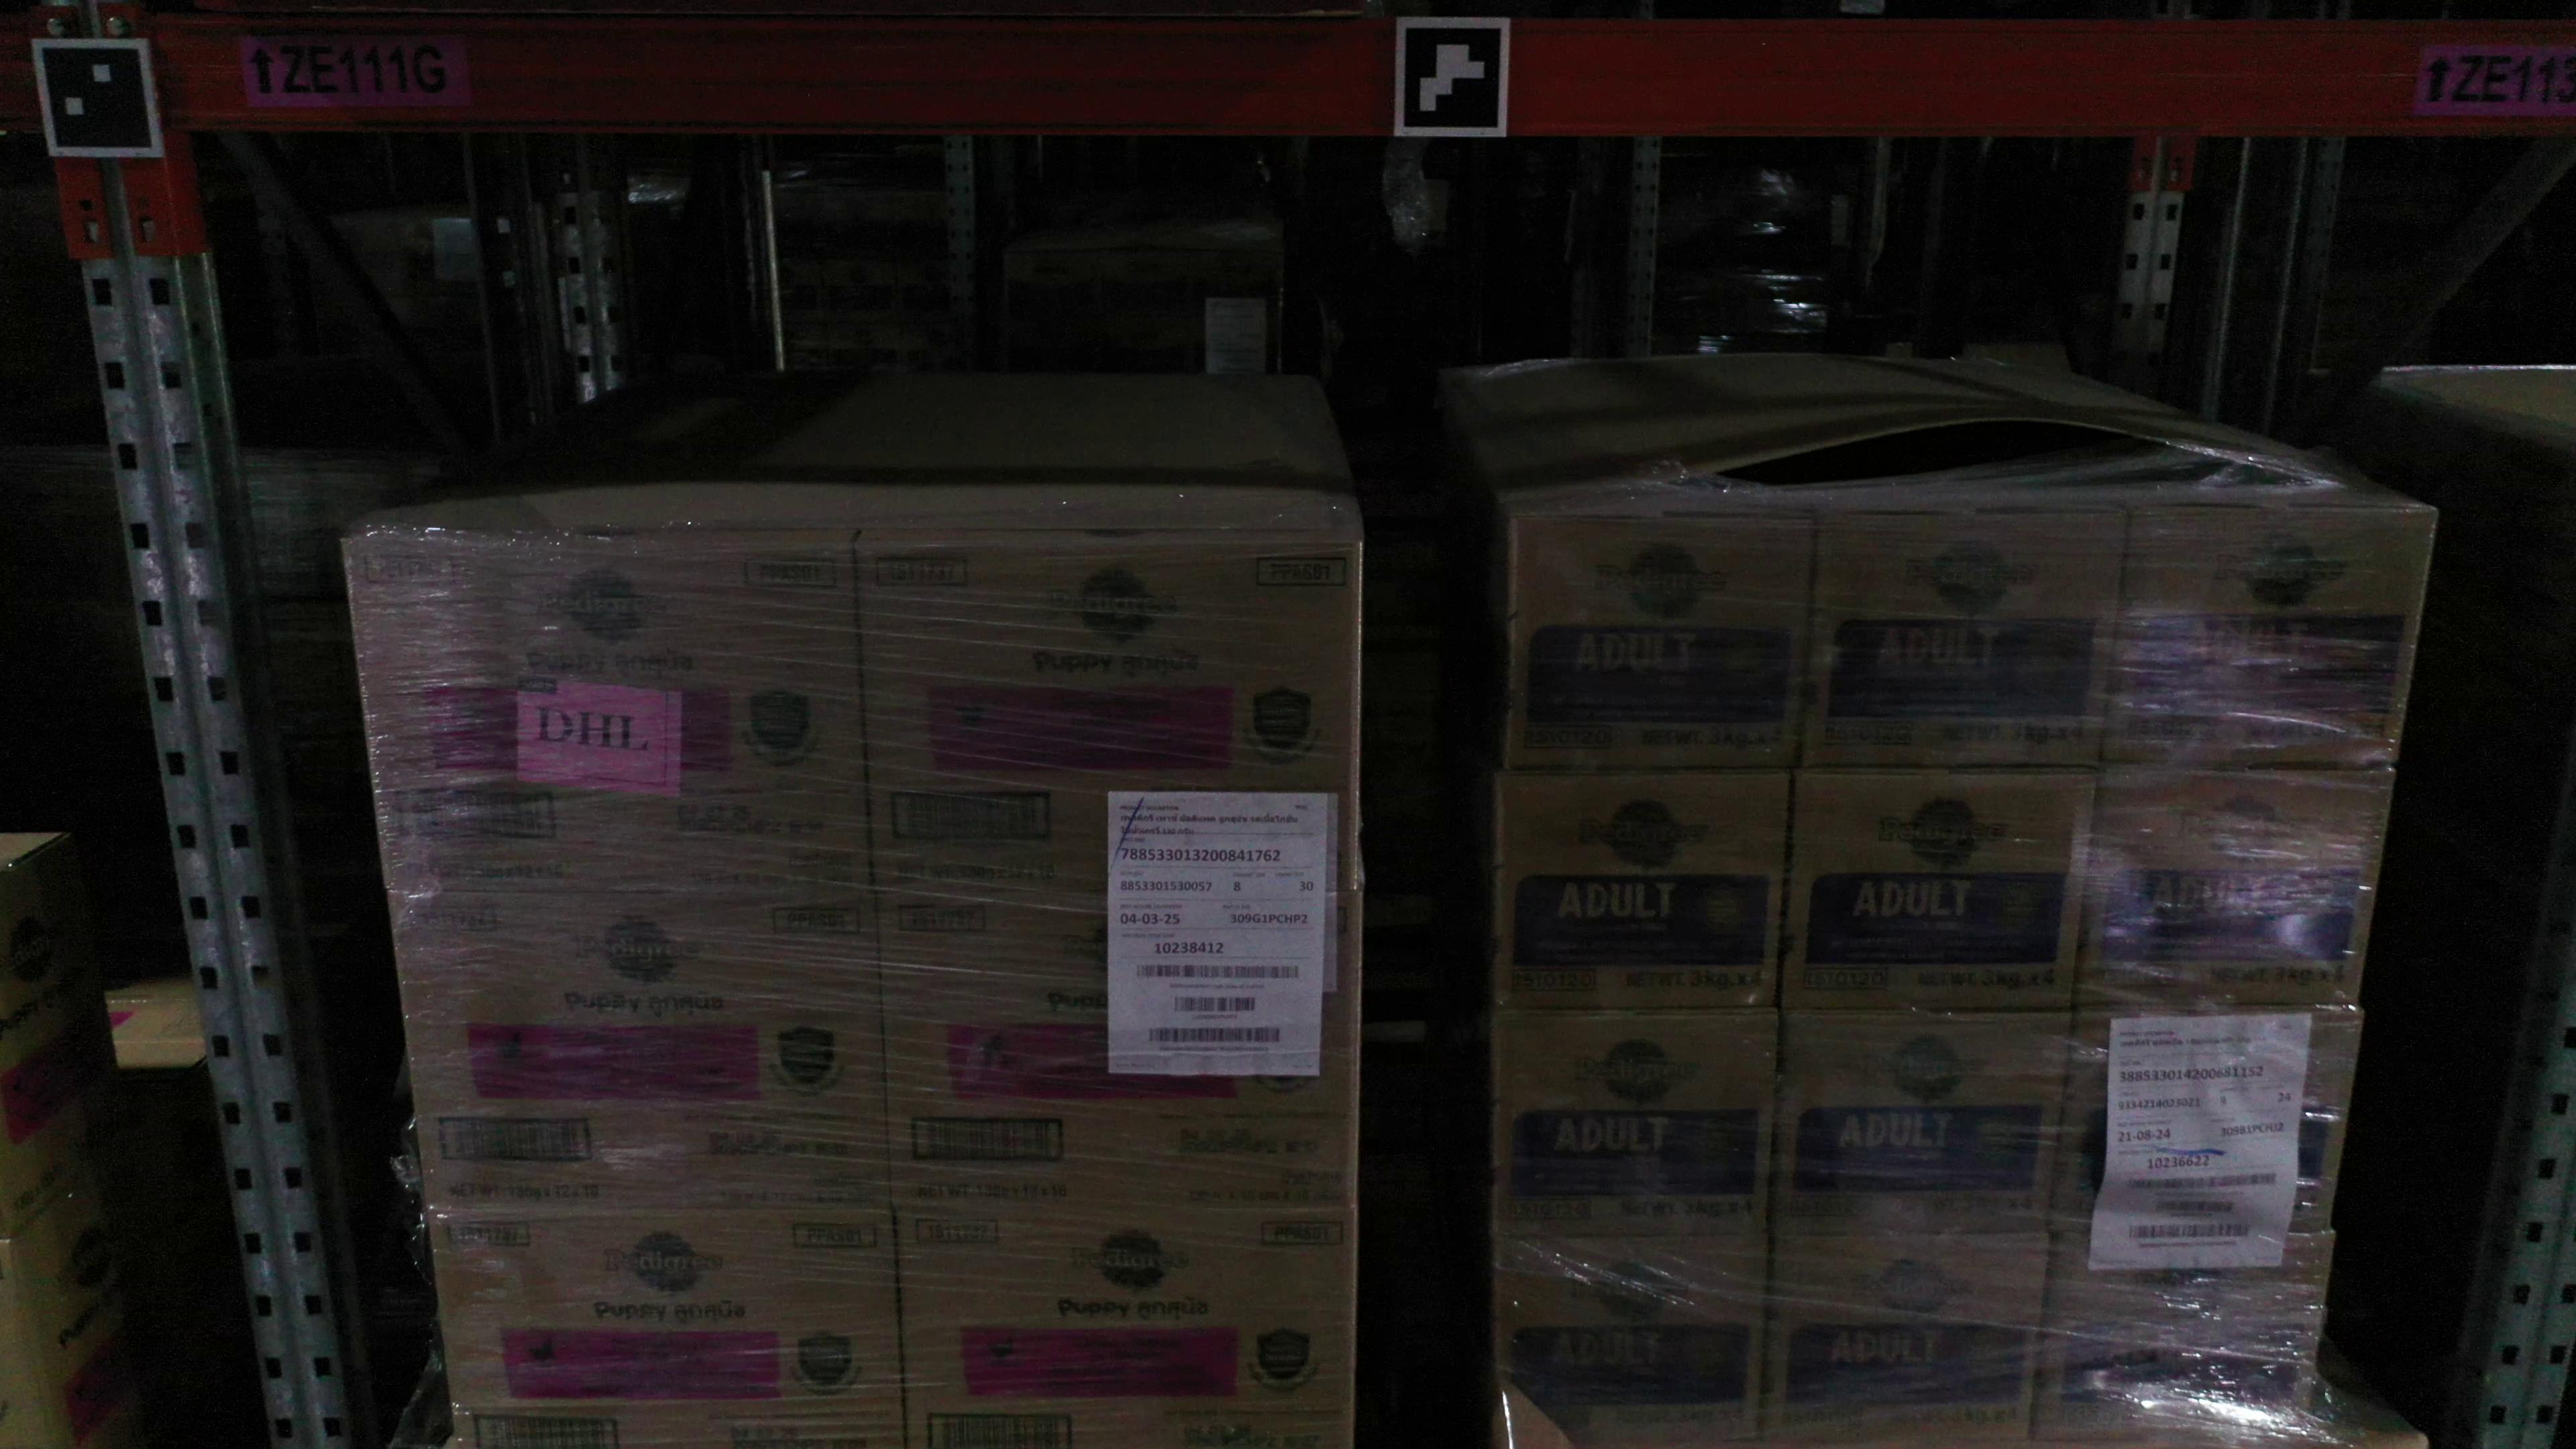-: (345, 533, 874, 899), (856, 527, 1368, 897), (389, 892, 892, 1217), (876, 892, 1362, 1214), (426, 1214, 913, 1449), (892, 1212, 1355, 1449), (1803, 506, 2130, 771), (2109, 501, 2438, 764), (1507, 510, 1815, 773), (2077, 763, 2392, 1014), (1778, 768, 2098, 1014), (1497, 770, 1794, 1014), (2052, 1010, 2362, 1235), (1771, 1014, 2074, 1238), (1493, 1008, 1778, 1238), (1760, 1231, 2052, 1447), (2035, 1231, 2332, 1440), (1497, 1238, 1769, 1442)
